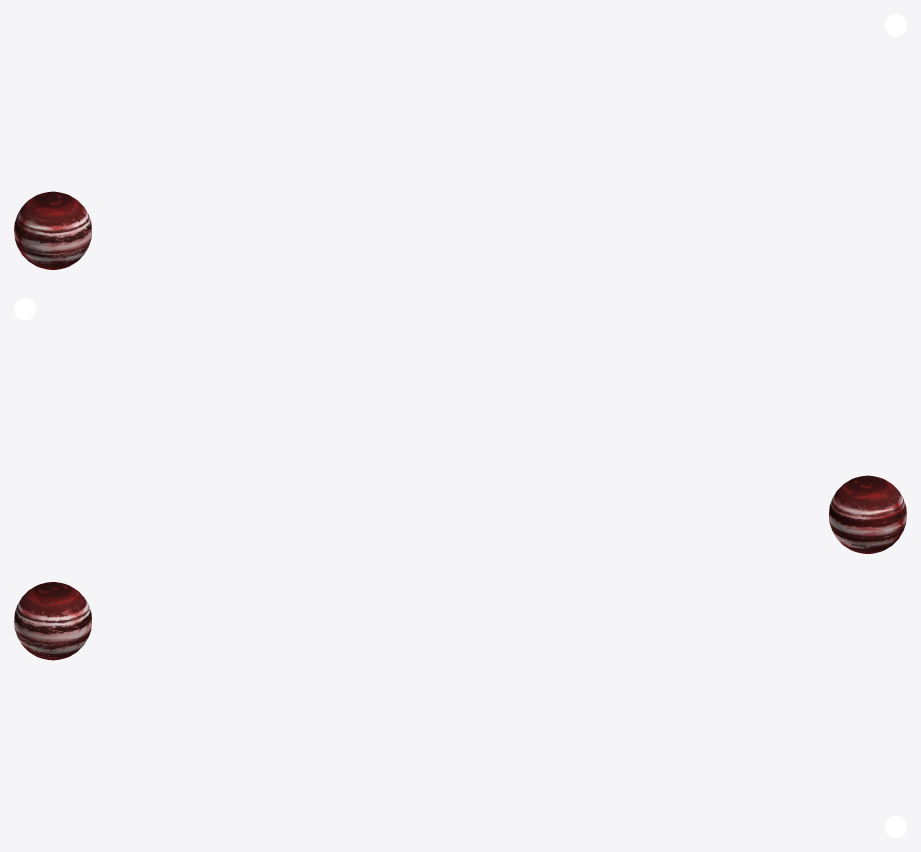
File: voss.glb
The picture shows the model from 3 angles, top to bottom: view 1: azimuth 30°, elevation 25°; view 2: azimuth 150°, elevation 25°; view 3: azimuth 330°, elevation 25°; orthographic projection.
Visible parts, largest first — view 1: Sphere_Material.001_0.002; view 2: Sphere_Material.001_0.002; view 3: Sphere_Material.001_0.002.
Boxes of the visible parts, box(x1,y1,x2,y2) form: Sphere_Material.001_0.002: box(14, 191, 91, 269); Sphere_Material.001_0.002: box(829, 475, 906, 553); Sphere_Material.001_0.002: box(14, 582, 91, 660).
Size of the model in its own units: 2 by 0.1531 by 0.1531.
2 materials, 1 textured.
